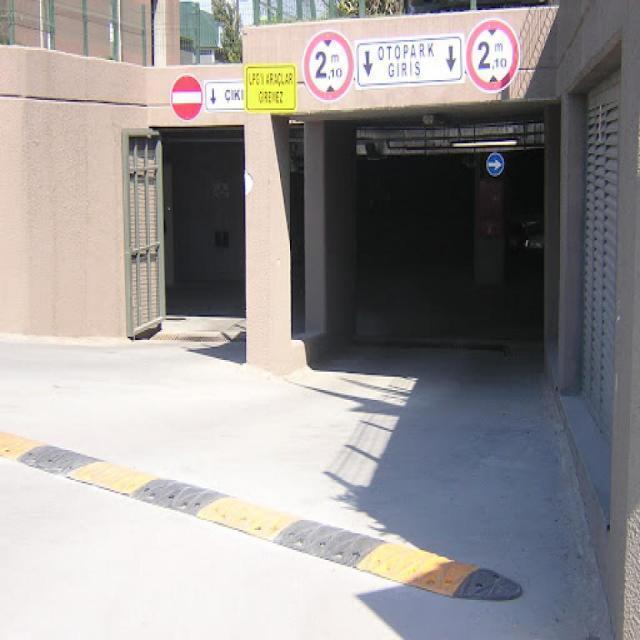speedbreaker: (0, 411, 522, 601)
